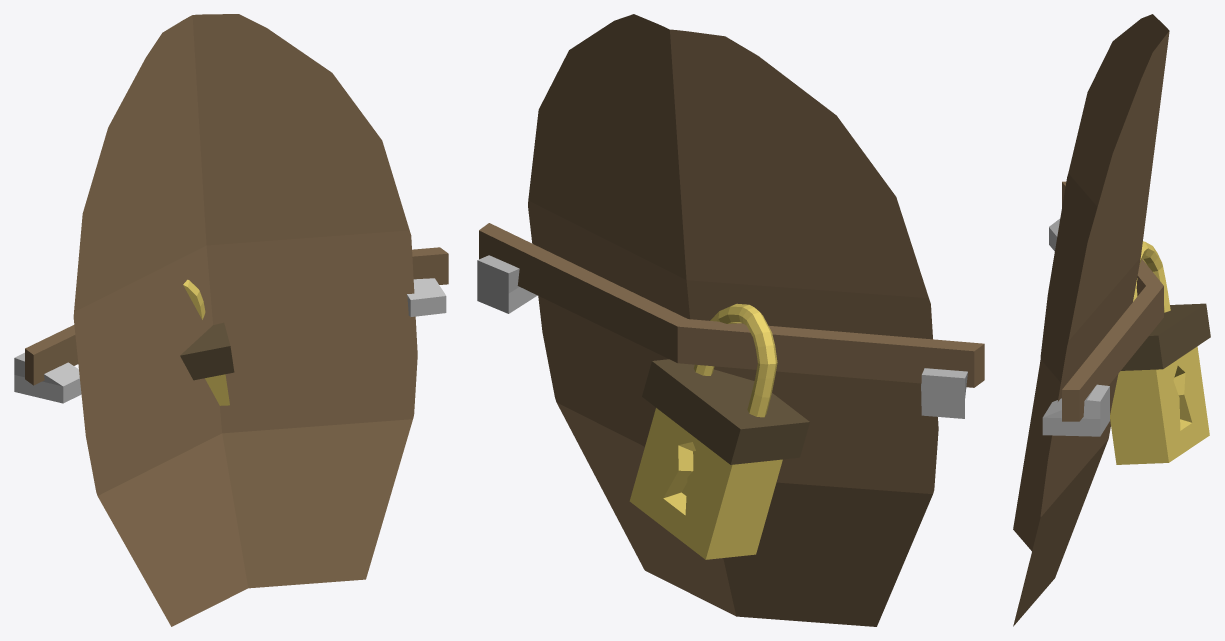
Rendered from porte.glb.
The picture shows the model from 3 angles, left to right: view 1: azimuth 30°, elevation 25°; view 2: azimuth 150°, elevation 25°; view 3: azimuth 270°, elevation 25°; orthographic projection. The views are drawn at different scales.
Parts seen in each view (by area): view 1: porte, Cube.002, Cube.005, Cube.008, Cube.007; view 2: porte, Cube.002, Cube.004, Cube.005, Cylinder.002, Cube.007, Cube.008; view 3: porte, Cube.004, Cube.002, Cube.005, Cube.007, Cylinder.002.
Part boxes in pixels (x1=…): porte: x1=73, y1=14, x2=417, y2=626; Cube.002: x1=25, y1=247, x2=448, y2=385; Cube.005: x1=180, y1=322, x2=234, y2=380; Cube.008: x1=14, y1=352, x2=81, y2=403; Cube.007: x1=407, y1=278, x2=446, y2=316; porte: x1=528, y1=14, x2=938, y2=626; Cube.002: x1=479, y1=223, x2=984, y2=387; Cube.004: x1=629, y1=408, x2=782, y2=559; Cube.005: x1=642, y1=359, x2=809, y2=464; Cylinder.002: x1=693, y1=303, x2=777, y2=417; Cube.007: x1=477, y1=255, x2=537, y2=313; Cube.008: x1=921, y1=368, x2=967, y2=418; porte: x1=1013, y1=14, x2=1169, y2=626; Cube.004: x1=1110, y1=346, x2=1209, y2=464; Cube.002: x1=1062, y1=181, x2=1163, y2=421; Cube.005: x1=1121, y1=303, x2=1210, y2=370; Cube.007: x1=1042, y1=384, x2=1109, y2=436; Cylinder.002: x1=1133, y1=241, x2=1170, y2=312.
Size of what is drawn, in the model's own units: 4.56 by 5.56 by 1.82.
